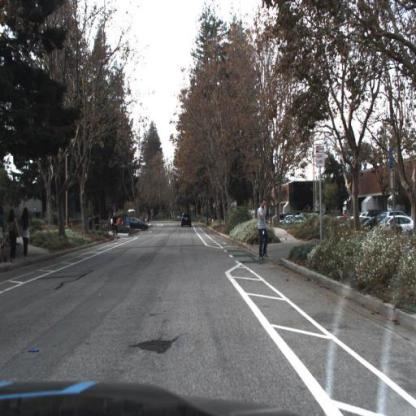biker: (113, 211, 122, 243)
car: (179, 209, 193, 230)
pedestrian: (257, 198, 269, 262), (7, 210, 19, 266), (21, 207, 31, 261), (86, 212, 96, 235), (95, 212, 101, 232), (89, 213, 94, 232)
